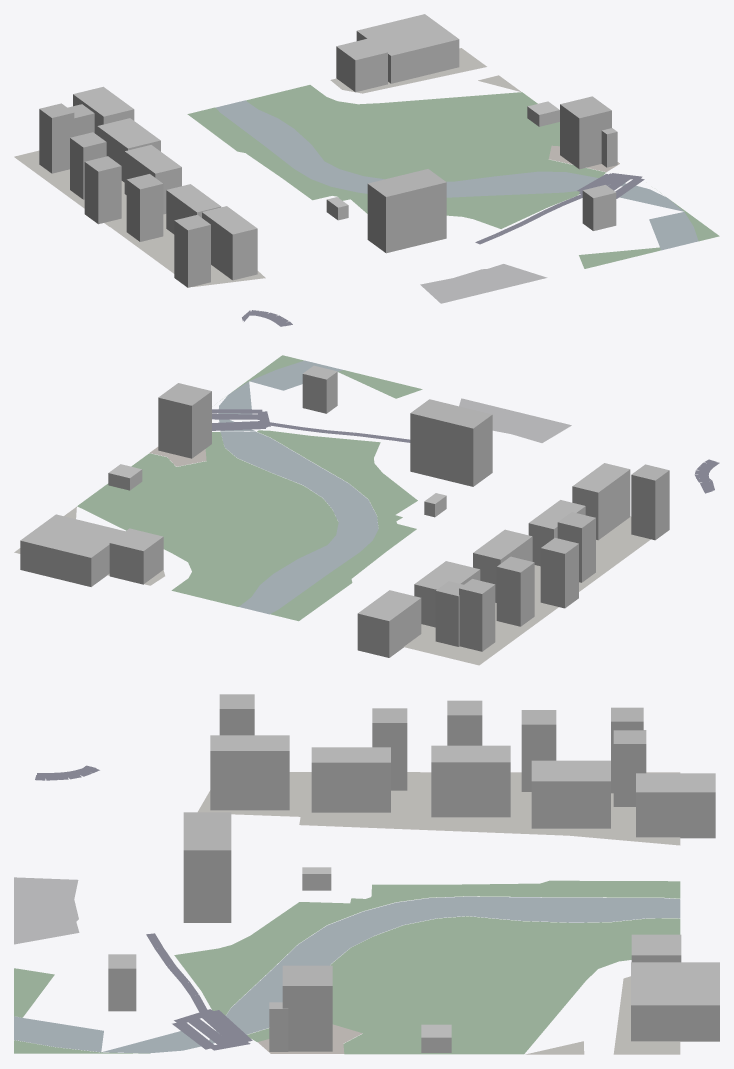
File: 103_106_mid.glb
3 views of the same model, one above another, from view 1: azimuth 30°, elevation 25°; view 2: azimuth 150°, elevation 25°; view 3: azimuth 270°, elevation 25° (orthographic). The views are drawn at different scales.
Bounding box in the file's own units: 507 × 63.03 × 530.
